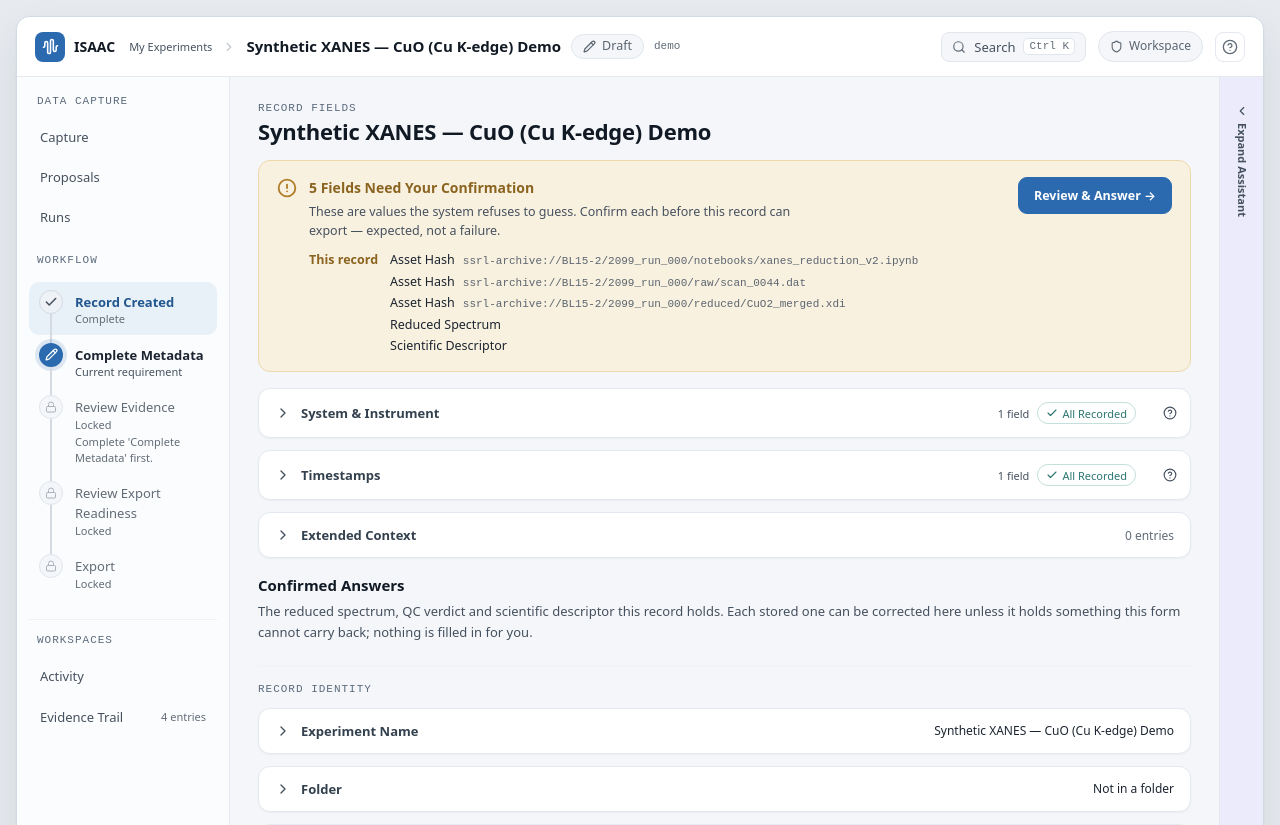
Test: a row the record HAS a value at › never denies the value it is rendering, on a path nothing can write
Step 1. Click the button "System & Instrument 1 field All Recorded" → click(370, 413), box [259,389,1152,437]
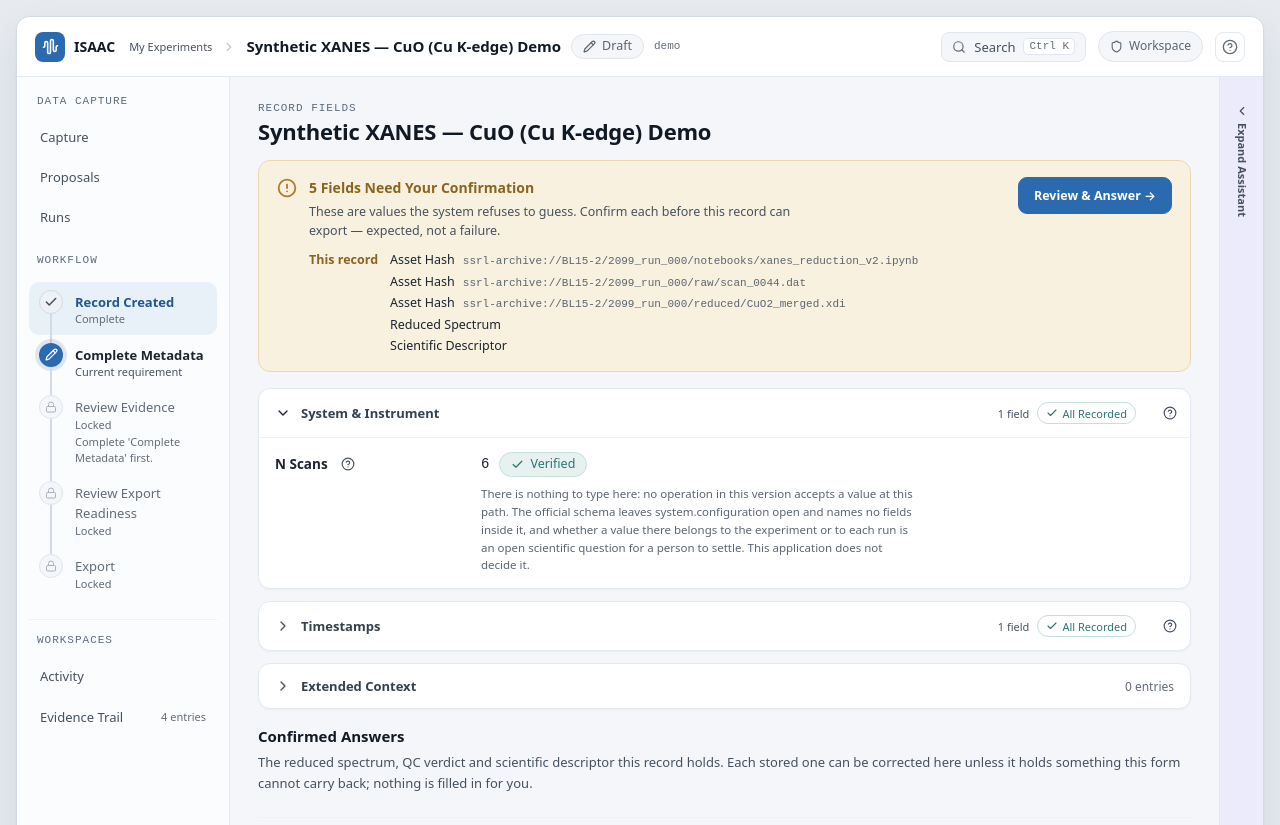
Step 2. Click the button "Timestamps 1 field All Recorded" → click(341, 626), box [259,602,1152,650]
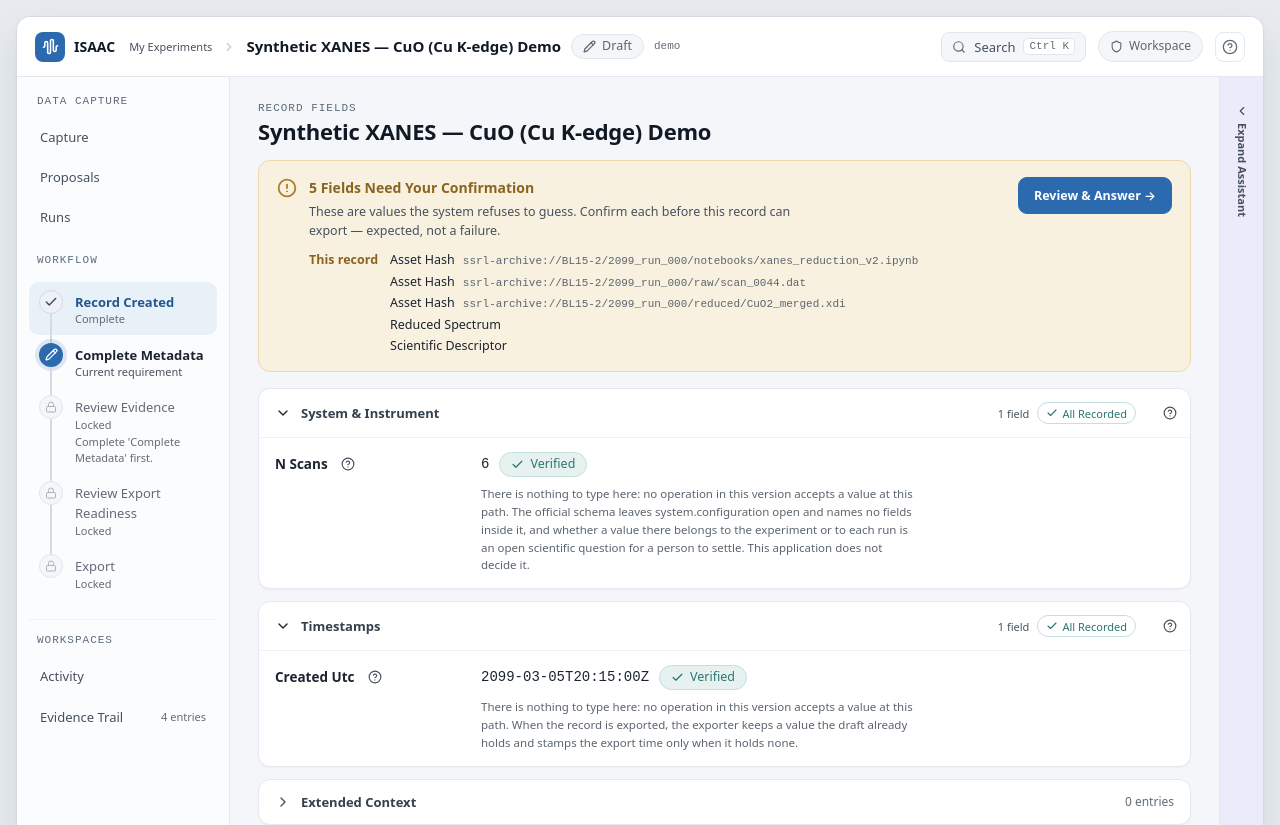
Expected: the element with class "field-row" shows "6", [481,456,489,472]
Expected: the text with class "field-capture-hint" shows "nothing to type", [481,486,913,572]
Expected: the element with class "field-row" shows "2099-03-05T20:15:00Z", [481,669,649,685]
